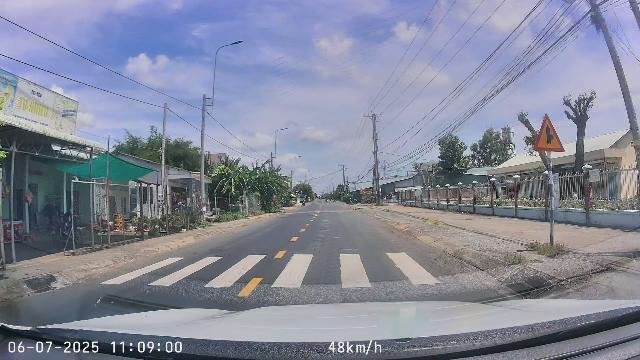207-giao-nhau-voi-duong-khong-uu-tien: (533, 113, 564, 152)
